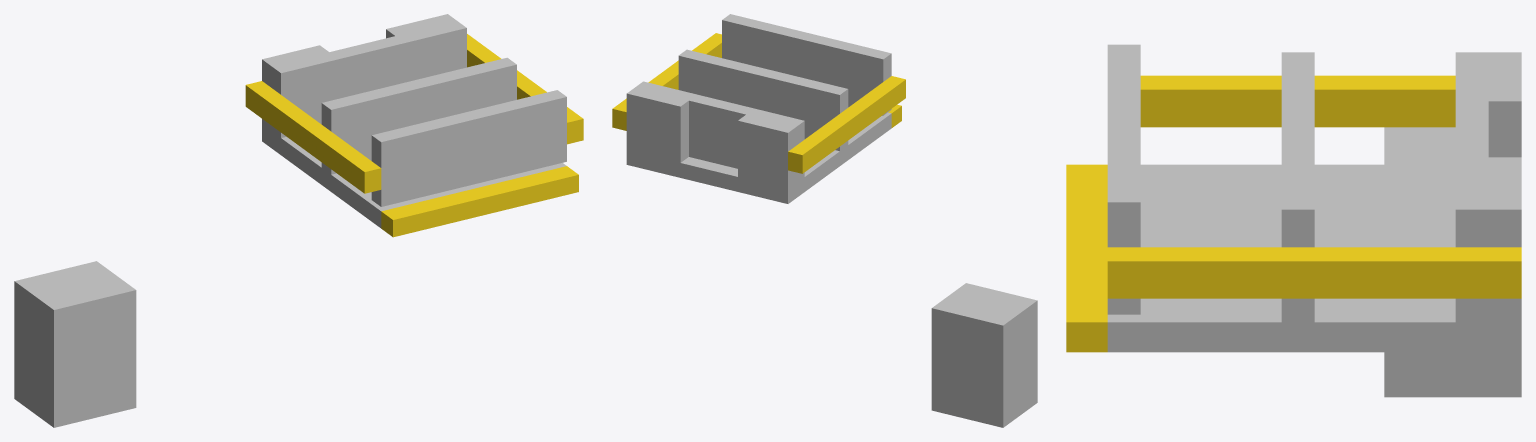
Rendered from tinker.obj.
3 renders of one model, left to right at view 1: azimuth 30°, elevation 25°; view 2: azimuth 150°, elevation 25°; view 3: azimuth 270°, elevation 25°, orthographic. The views are drawn at different scales.
Visible parts, largest first — view 1: group_0_4634441, group_0_15277357, group_0_16768282; view 2: group_0_4634441, group_0_15277357, group_0_16768282; view 3: group_0_15277357, group_0_16768282, group_0_4634441.
Boxes of the visible parts, x1,y1,x2,y2 form: group_0_4634441: (262,14,566,206); group_0_15277357: (14,124,566,427); group_0_16768282: (245,34,583,237); group_0_4634441: (626,14,891,188); group_0_15277357: (626,112,1037,427); group_0_16768282: (612,33,905,173); group_0_15277357: (1107,127,1521,397); group_0_16768282: (1066,75,1521,352); group_0_4634441: (1107,44,1521,322).
Bounding box in the file's own units: 109 × 65.64 × 55.
